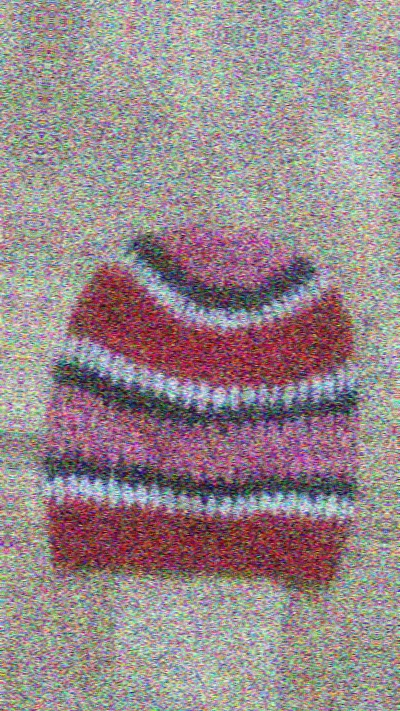Hat: (16, 189, 400, 599), (0, 156, 26, 567), (387, 220, 400, 631)
